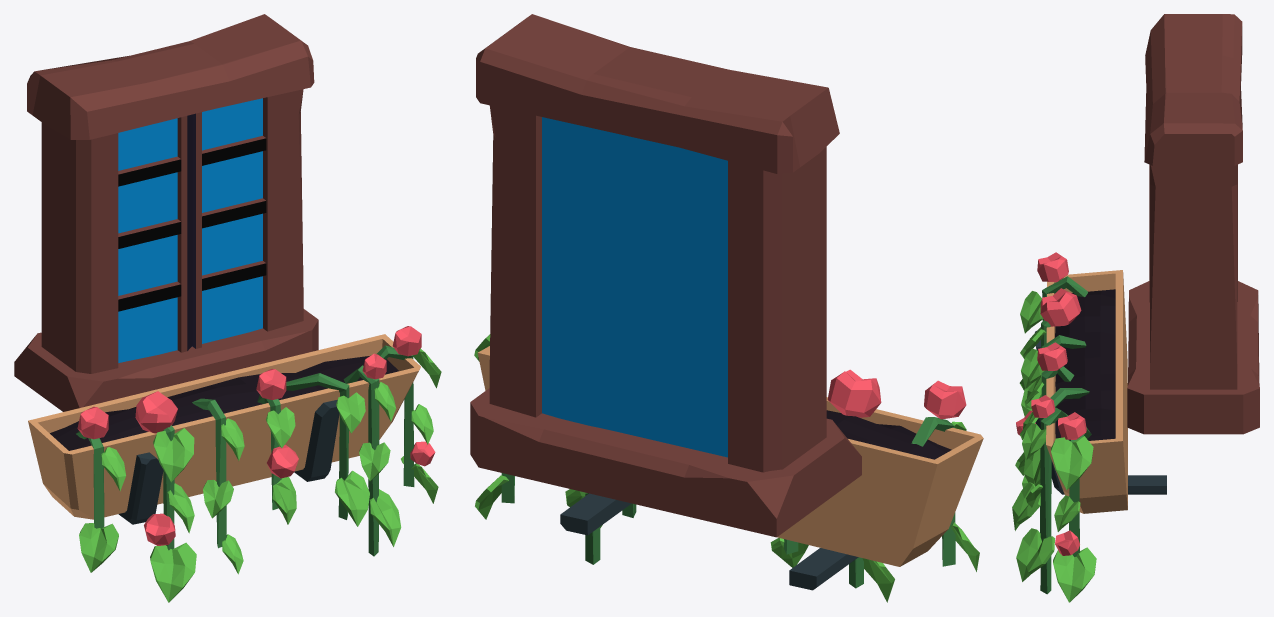
File: Building Window 05.fbx
3 views of the same model, side by side, from view 1: azimuth 30°, elevation 25°; view 2: azimuth 150°, elevation 25°; view 3: azimuth 270°, elevation 25° (orthographic). The views are drawn at different scales.
Parts seen in each view (by area): view 1: Building Window 05; view 2: Building Window 05; view 3: Building Window 05.
Part boxes in pixels (x1,y1,x2,y2): Building Window 05: (14,14,441,602); Building Window 05: (470,14,983,602); Building Window 05: (1012,14,1259,602).
Bounding box in the file's own units: 216 × 255 × 124.
